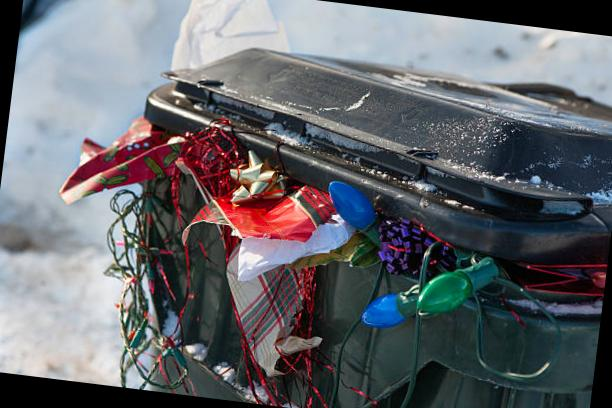trash: (30, 87, 612, 335)
trash_can_overflow: (54, 0, 612, 408)
